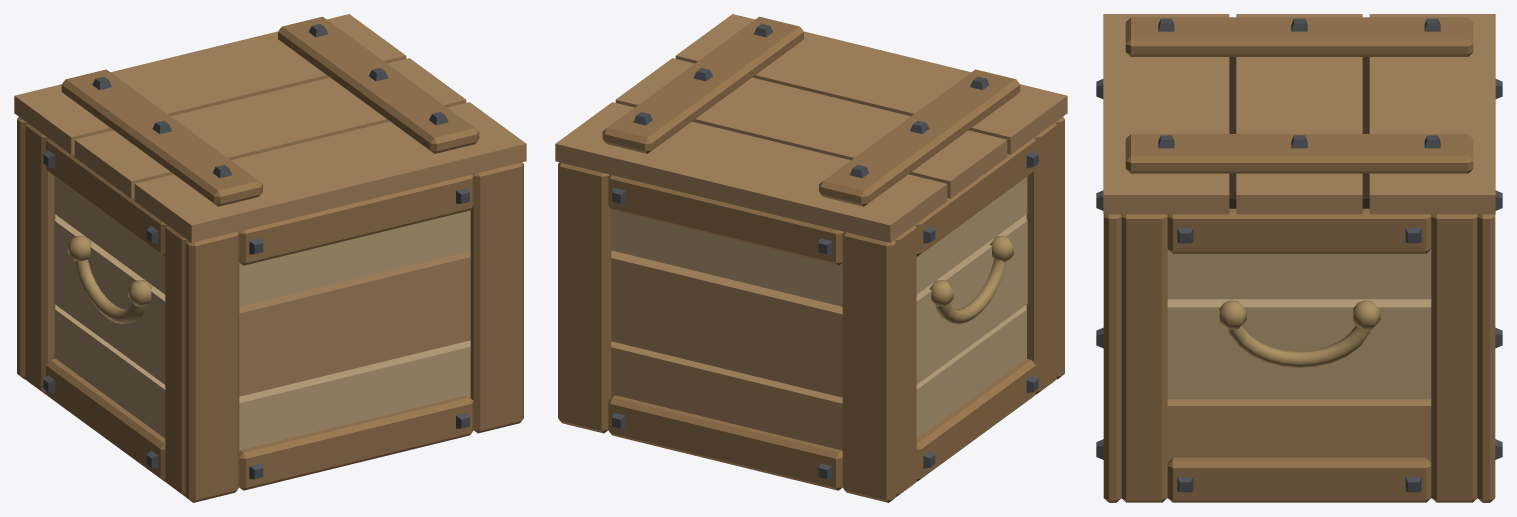
File: SM_LPD_Crate_CrateSmall_01.fbx
3 views of the same model, side by side, from view 1: azimuth 30°, elevation 25°; view 2: azimuth 150°, elevation 25°; view 3: azimuth 270°, elevation 25° (orthographic). The views are drawn at different scales.
Parts seen in each view (by area): view 1: SM_LPD_Crate_CrateSmall_01; view 2: SM_LPD_Crate_CrateSmall_01; view 3: SM_LPD_Crate_CrateSmall_01.
Boxes of the visible parts, left/top/right/bottom form: SM_LPD_Crate_CrateSmall_01: left=14, top=14, right=526, bottom=502; SM_LPD_Crate_CrateSmall_01: left=555, top=14, right=1067, bottom=502; SM_LPD_Crate_CrateSmall_01: left=1096, top=14, right=1502, bottom=502.
Bounding box in the file's own units: 0.496 × 0.415 × 0.456.
